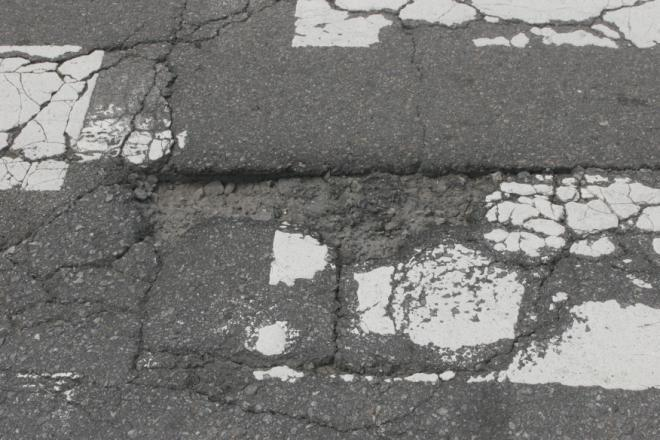pothole: (115, 143, 508, 264)
